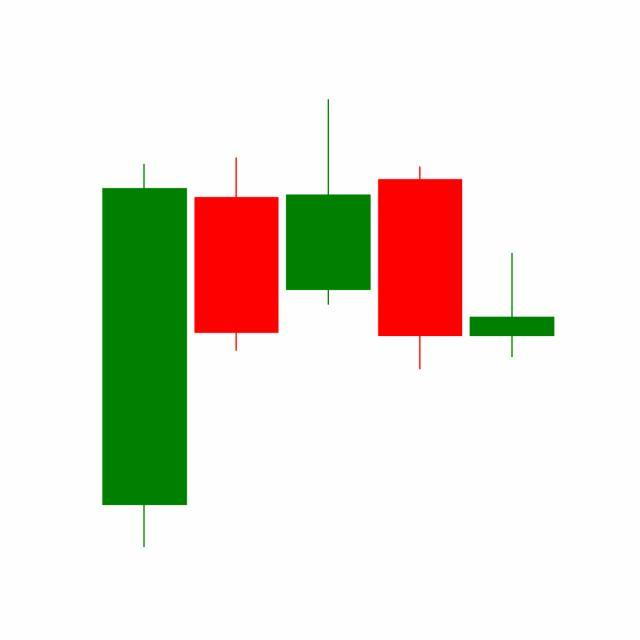Stick Sandwich: (190, 100, 467, 375)
